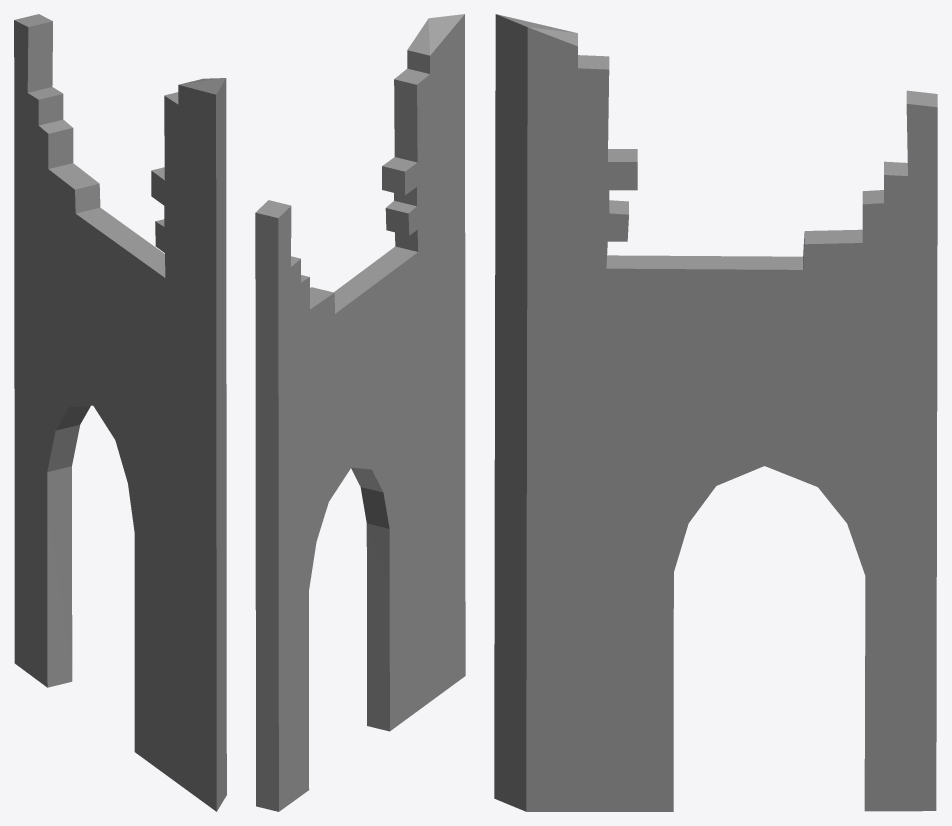
Rendered from wall_10.fbx.
The picture shows the model from 3 angles, left to right: view 1: azimuth 30°, elevation 25°; view 2: azimuth 150°, elevation 25°; view 3: azimuth 270°, elevation 25°; orthographic projection. The views are drawn at different scales.
Parts seen in each view (by area): view 1: Object.024; view 2: Object.024; view 3: Object.024.
Part boxes in pixels (x1,y1,x2,y2): Object.024: (14, 14, 226, 811); Object.024: (255, 14, 465, 811); Object.024: (494, 14, 937, 811).
Size of the model in its own units: 60 by 1660 by 850.
